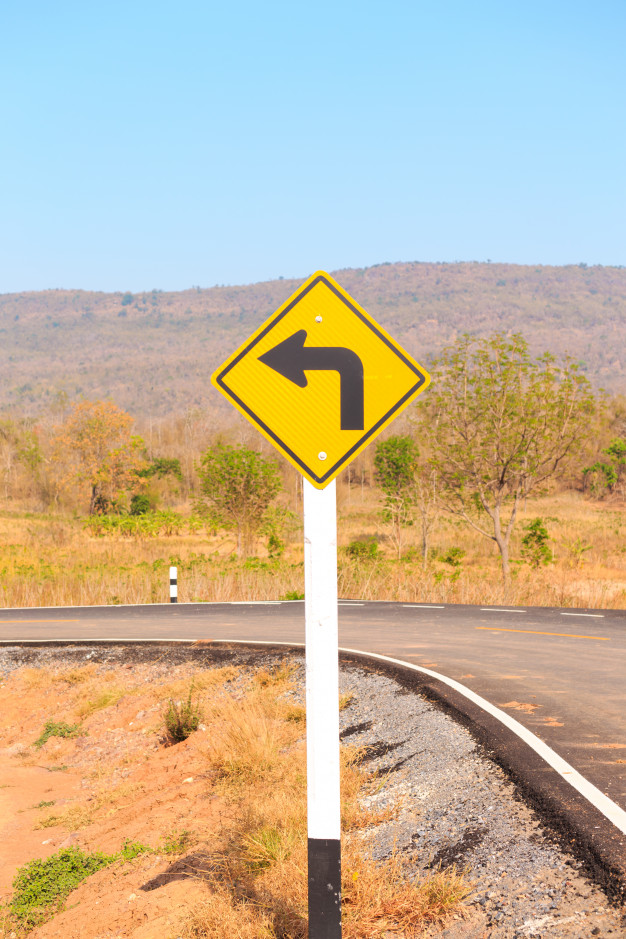left: (208, 269, 432, 491)
